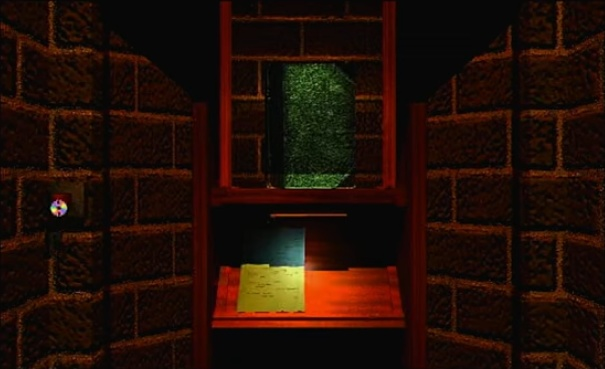Waiting: (46, 196, 70, 218)
